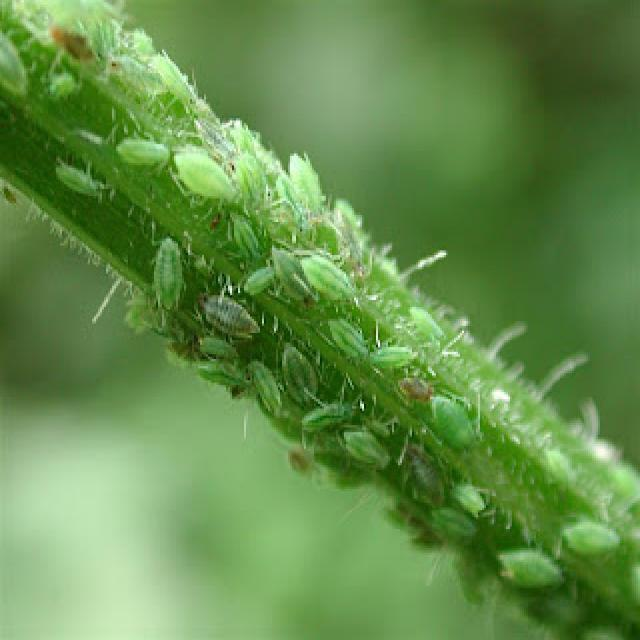Aphids: (25, 9, 632, 616)
